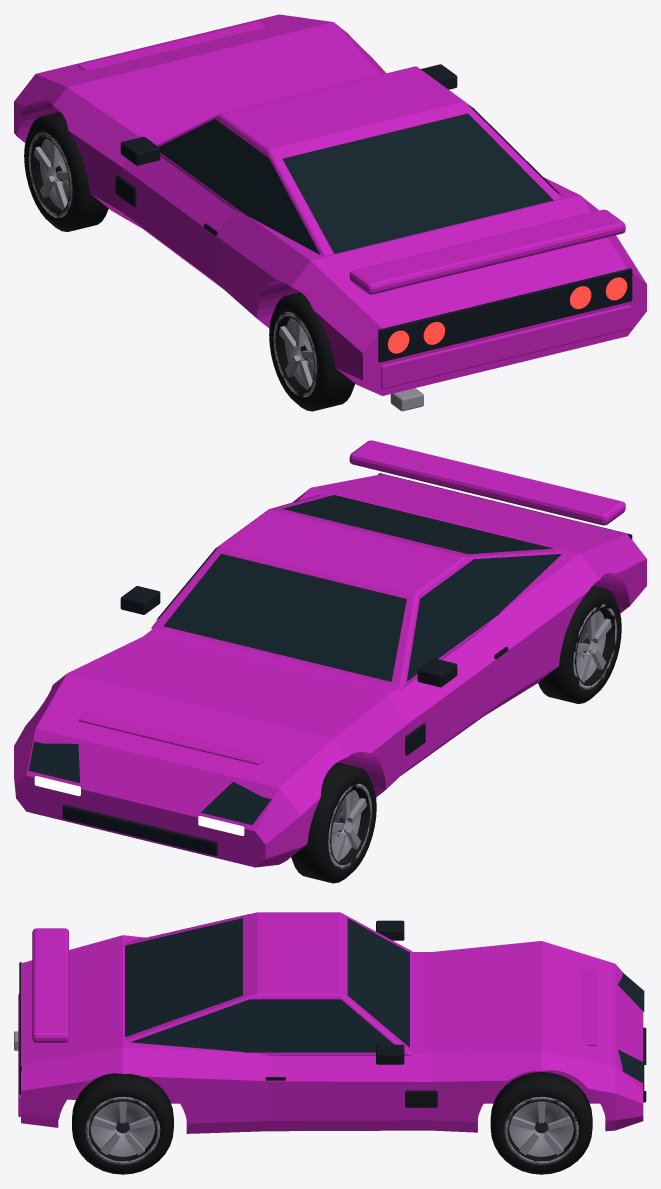
The model's file is ns-wager-01.glb.
The picture shows the model from 3 angles, top to bottom: view 1: azimuth 30°, elevation 25°; view 2: azimuth 150°, elevation 25°; view 3: azimuth 270°, elevation 25°; orthographic projection. The views are drawn at different scales.
Visible parts, largest first — view 1: coachwork, rear-glass, rotary-canopy, side-glass-left, ducktail, tail-panel, rear-apron, tire-rear-left, tire-front-left, bonnet, rim-front-left, rim-rear-left (+2 smaller); view 2: coachwork, windshield, rotary-canopy, side-glass-left, ducktail, rear-glass, tire-front-left, tire-rear-left, oval-intake, bonnet, headlamp-lens-left, headlamp-lens-right (+4 smaller); view 3: coachwork, rotary-canopy, rear-glass, side-glass-right, tire-front-right, windshield, tire-rear-right, ducktail, rim-front-right, rim-rear-right, bonnet, mirror-right (+4 smaller).
Boxes of the visible parts, left/top/right/bottom form: coachwork: left=14, top=14, right=646, bottom=395; rear-glass: left=282, top=113, right=553, bottom=253; rotary-canopy: left=157, top=66, right=561, bottom=255; side-glass-left: left=159, top=119, right=319, bottom=254; ducktail: left=349, top=209, right=625, bottom=294; tail-panel: left=378, top=268, right=632, bottom=362; rear-apron: left=381, top=305, right=630, bottom=389; tire-rear-left: left=269, top=292, right=354, bottom=411; tire-front-left: left=24, top=112, right=108, bottom=231; bonnet: left=78, top=21, right=265, bottom=70; rim-front-left: left=28, top=132, right=72, bottom=217; rim-rear-left: left=273, top=311, right=317, bottom=397; coachwork: left=14, top=474, right=646, bottom=867; windshield: left=163, top=553, right=406, bottom=681; rotary-canopy: left=151, top=493, right=561, bottom=689; side-glass-left: left=406, top=554, right=561, bottom=681; ducktail: left=349, top=440, right=625, bottom=525; rear-glass: left=282, top=495, right=553, bottom=554; tire-front-left: left=291, top=762, right=376, bottom=883; tire-rear-left: left=538, top=585, right=621, bottom=703; oval-intake: left=62, top=804, right=217, bottom=855; bonnet: left=78, top=713, right=265, bottom=764; headlamp-lens-left: left=201, top=781, right=271, bottom=824; headlamp-lens-right: left=28, top=741, right=79, bottom=782; coachwork: left=21, top=935, right=643, bottom=1133; rotary-canopy: left=126, top=912, right=412, bottom=1055; rear-glass: left=125, top=918, right=242, bottom=1037; side-glass-right: left=131, top=999, right=393, bottom=1052; tire-front-right: left=490, top=1072, right=592, bottom=1174; windshield: left=347, top=918, right=409, bottom=1047; tire-rear-right: left=72, top=1073, right=173, bottom=1174; ducktail: left=32, top=928, right=68, bottom=1042; rim-front-right: left=504, top=1096, right=578, bottom=1164; rim-rear-right: left=85, top=1096, right=160, bottom=1164; bonnet: left=581, top=969, right=596, bottom=1045; mirror-right: left=376, top=1044, right=404, bottom=1064.
Bounding box in the file's own units: 2.24 × 1.26 × 4.47.
